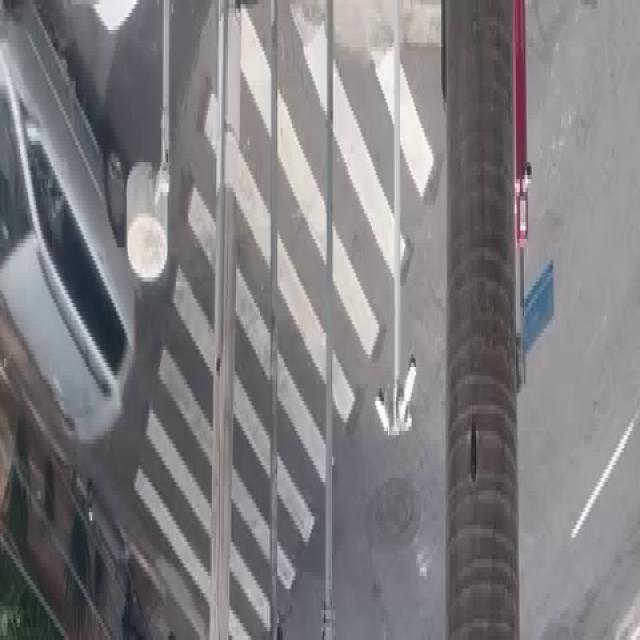car: (2, 14, 140, 432)
